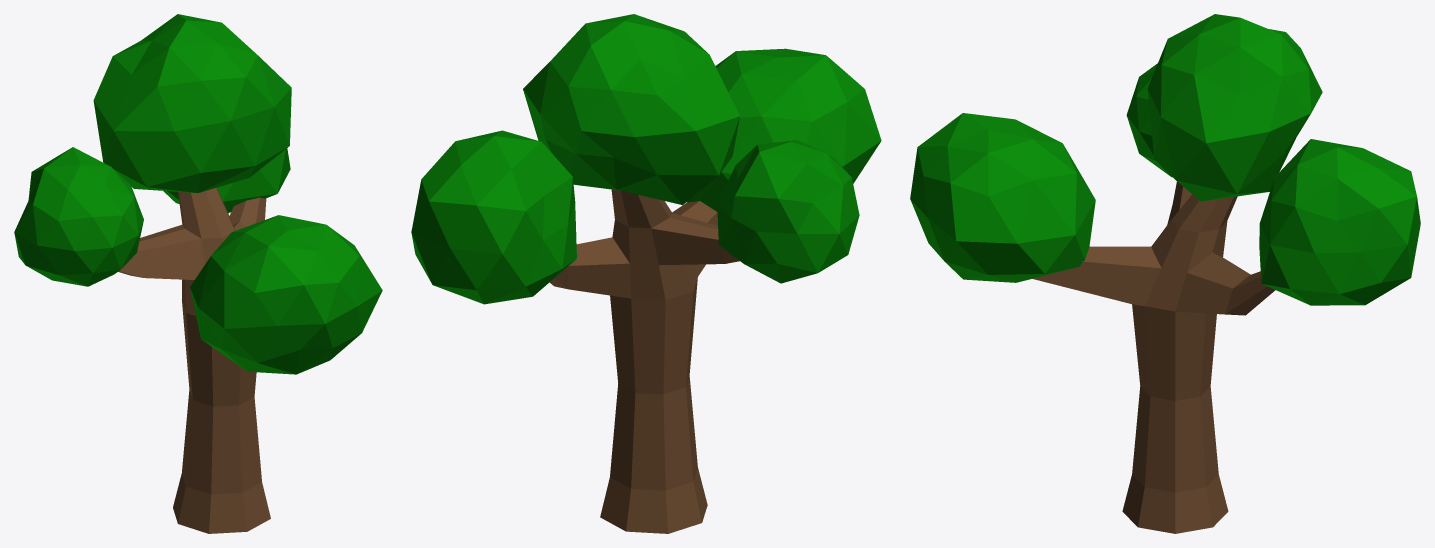
The model's file is tree.fbx.
3 views of the same model, side by side, from view 1: azimuth 30°, elevation 25°; view 2: azimuth 150°, elevation 25°; view 3: azimuth 270°, elevation 25° (orthographic). The views are drawn at different scales.
Parts seen in each view (by area): view 1: Icosphere.002, Icosphere.003, Cylinder, Icosphere, Icosphere.001; view 2: Cylinder, Icosphere.002, Icosphere.001, Icosphere, Icosphere.003; view 3: Cylinder, Icosphere.003, Icosphere.002, Icosphere.001, Icosphere.
Part boxes in pixels (x1=…): Icosphere.002: x1=93, y1=14, x2=291, y2=192; Icosphere.003: x1=190, y1=215, x2=382, y2=374; Cylinder: x1=118, y1=187, x2=270, y2=533; Icosphere: x1=14, y1=147, x2=143, y2=286; Icosphere.001: x1=163, y1=148, x2=290, y2=212; Cylinder: x1=549, y1=189, x2=739, y2=533; Icosphere.002: x1=523, y1=14, x2=739, y2=205; Icosphere.001: x1=411, y1=130, x2=576, y2=304; Icosphere: x1=717, y1=140, x2=859, y2=283; Icosphere.003: x1=686, y1=48, x2=881, y2=211; Cylinder: x1=1032, y1=181, x2=1275, y2=533; Icosphere.003: x1=910, y1=113, x2=1095, y2=282; Icosphere.002: x1=1147, y1=14, x2=1322, y2=201; Icosphere.001: x1=1259, y1=139, x2=1420, y2=305; Icosphere: x1=1126, y1=63, x2=1172, y2=177.
Size of the model in its own units: 406 by 575 by 541.
